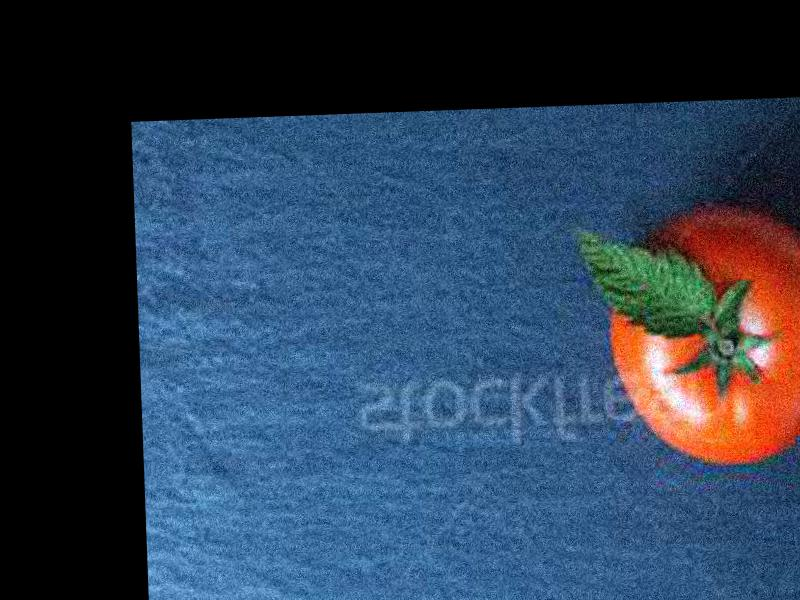Tomato: (603, 207, 800, 467)
